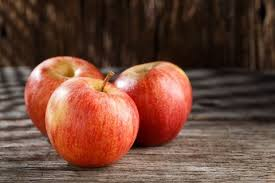apple: (45, 78, 141, 165), (115, 61, 193, 146)
